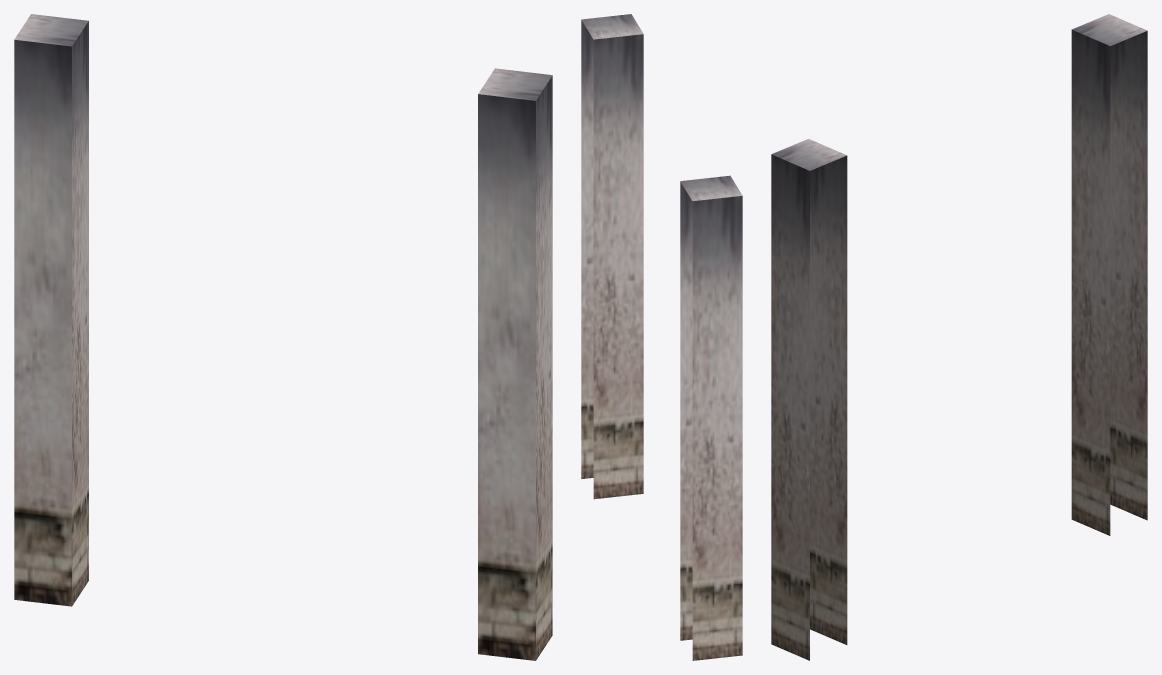
The model's file is ian1096.obj.
The picture shows the model from 3 angles, left to right: view 1: azimuth 30°, elevation 25°; view 2: azimuth 150°, elevation 25°; view 3: azimuth 270°, elevation 25°; orthographic projection. The views are drawn at different scales.
Visible parts, largest first — view 1: ian1096; view 2: ian1096; view 3: ian1096.
Part boxes in pixels (x1,y1,x2,y2): ian1096: (14,14,552,660); ian1096: (581,14,742,660); ian1096: (771,14,1147,660).
Bounding box in the file's own units: 66.42 × 96.68 × 67.34.
